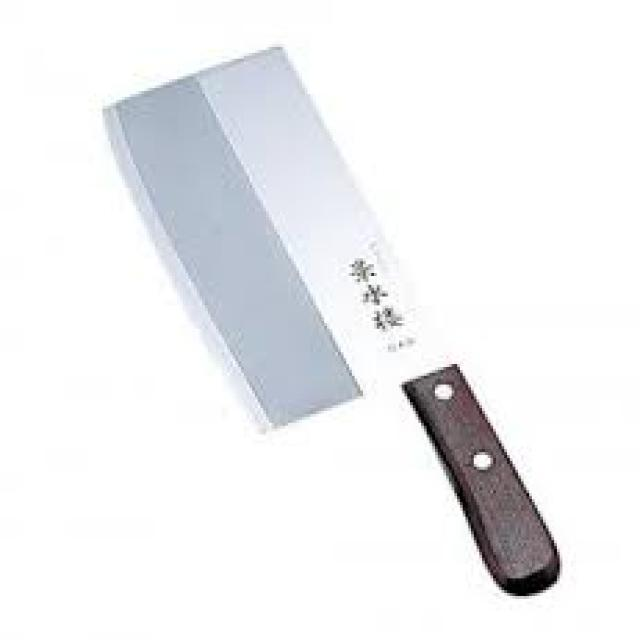Knife: (105, 47, 560, 596)
